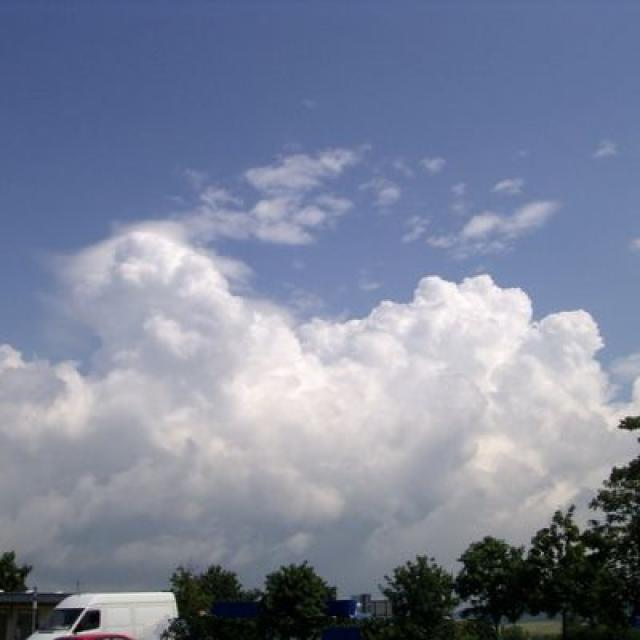Cu: (1, 161, 640, 504)
